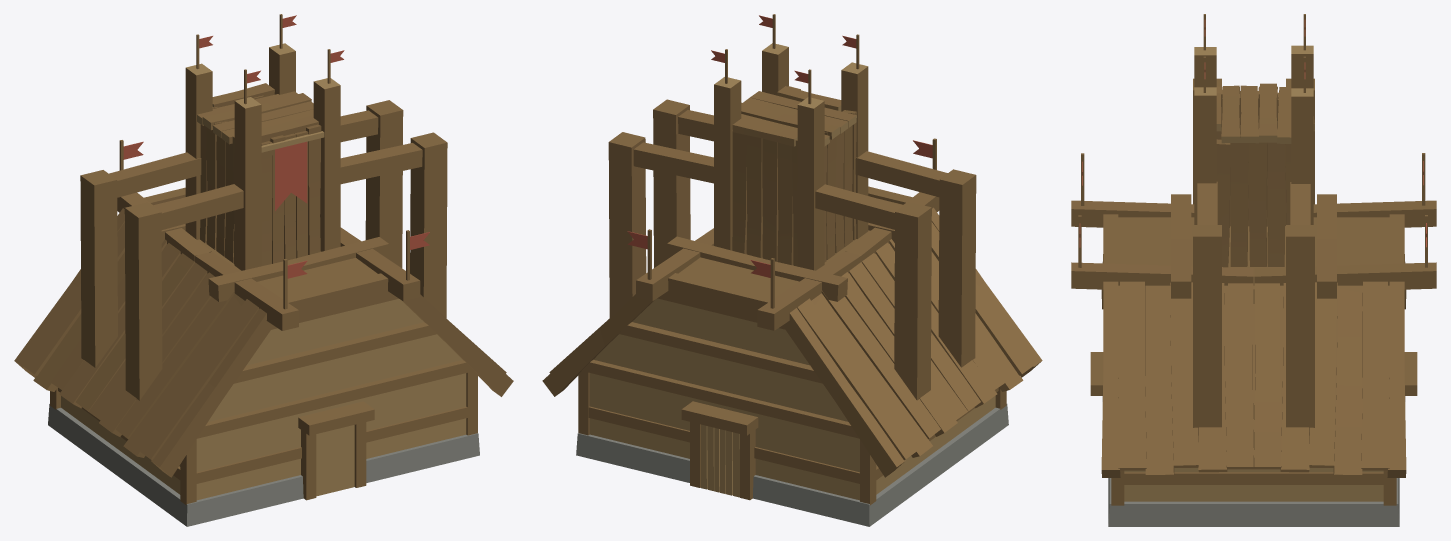
Rendered from TowerHouse_FirstAge.glb.
3 renders of one model, left to right at view 1: azimuth 30°, elevation 25°; view 2: azimuth 150°, elevation 25°; view 3: azimuth 270°, elevation 25°, orthographic. The views are drawn at different scales.
Parts seen in each view (by area): view 1: TowerHouse_FirstAge; view 2: TowerHouse_FirstAge; view 3: TowerHouse_FirstAge.
Boxes of the visible parts, x1,y1,x2,y2 form: TowerHouse_FirstAge: (14, 14, 513, 526); TowerHouse_FirstAge: (542, 14, 1042, 526); TowerHouse_FirstAge: (1071, 14, 1436, 526).
Size of the model in its own units: 1.39 by 1.47 by 1.17.
